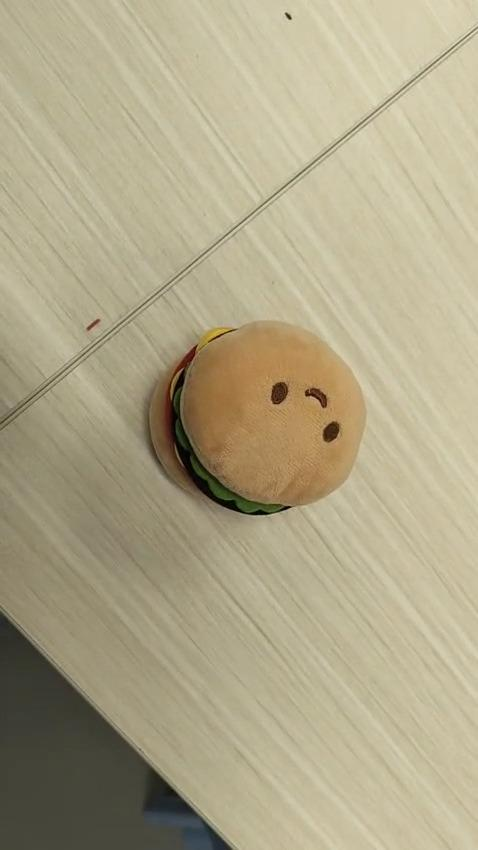hamburger: (147, 318, 366, 517)
